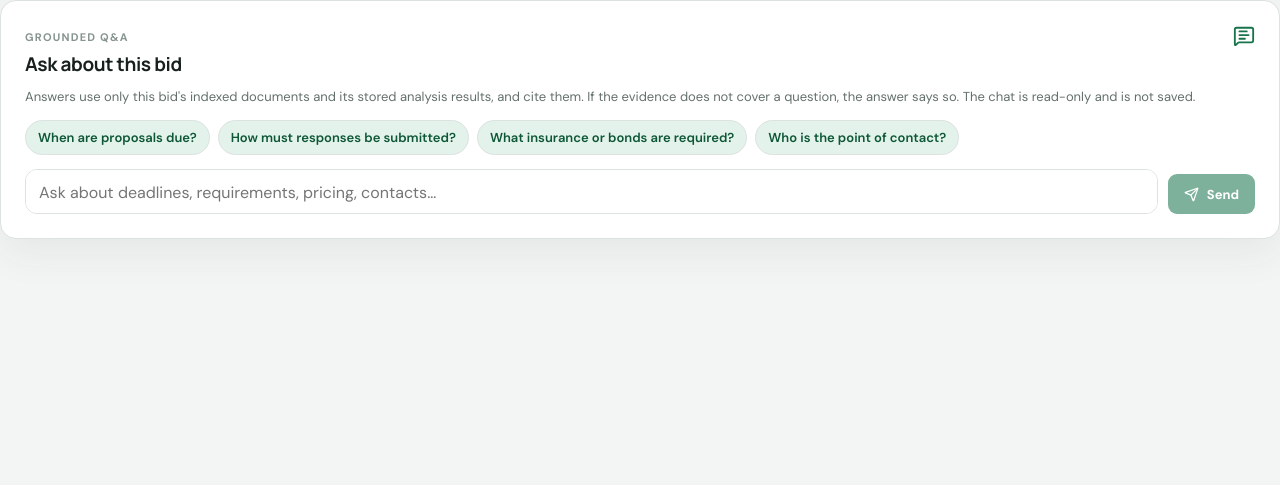
Test case: bid chat › shows an error and retries the same question once
The width and height of the screenshot is (1280, 485).
In the text box named "Your question": (591, 192) [25,169,1158,214], type "When are proposals due?"
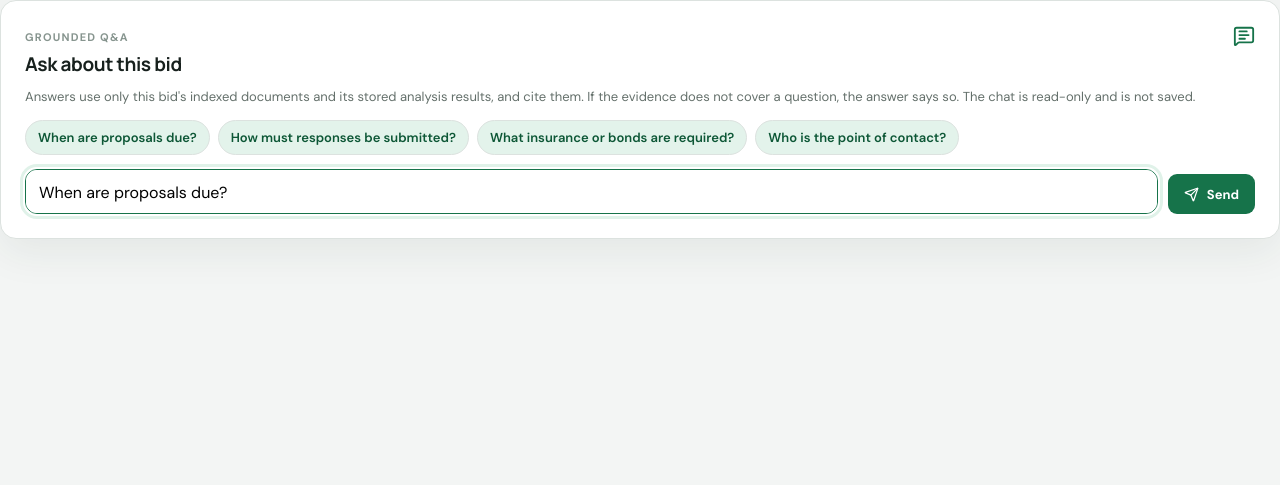
Press Enter
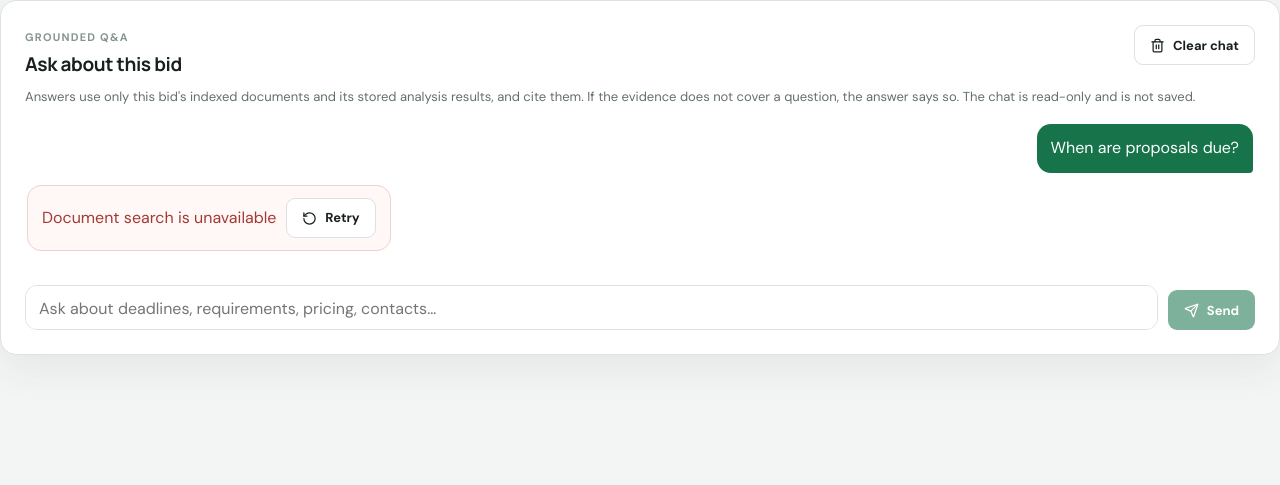
Expected: the message shows "Document search is unavailable", [42,207,276,228]
Click the button "Retry": (331, 218) [286,198,376,238]
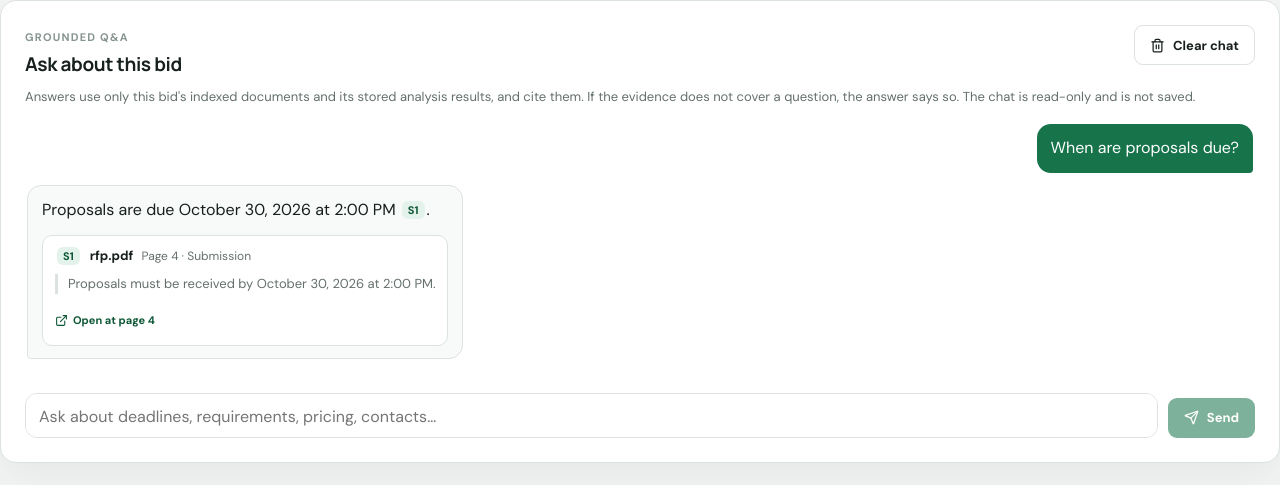
Expected: the text "When are proposals due?" is shown once, [1036,124,1253,173]
Expected: the text "Proposals are due October 30, 2026 at 2:00 PM S1 ." is shown, [42,198,448,223]
Expected: the message "Document search is unavailable Retry" is gone
